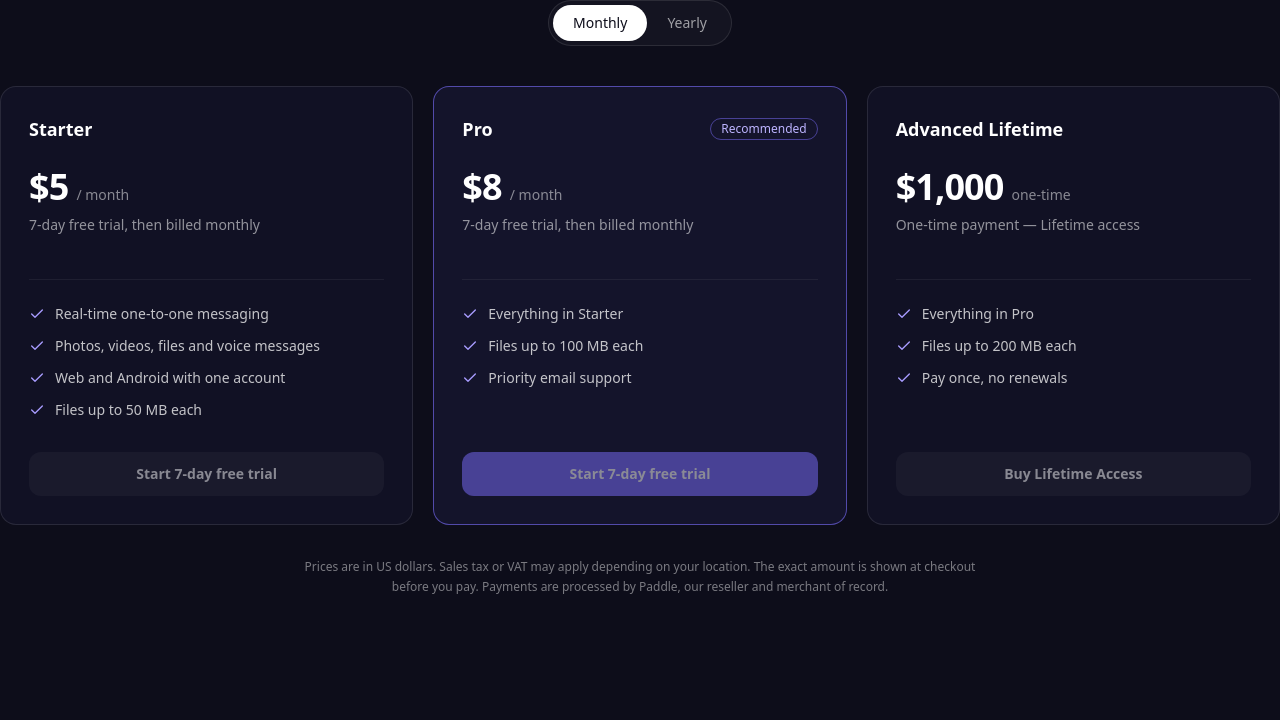
Scenario: pricing table › Starter (Monthly) opens the overlay checkout for its own price ID
The width and height of the screenshot is (1280, 720).
Later steps or results of the test are not shown.
Click the radio button labelled "Monthly" at (600, 23), box [553,5,647,41]
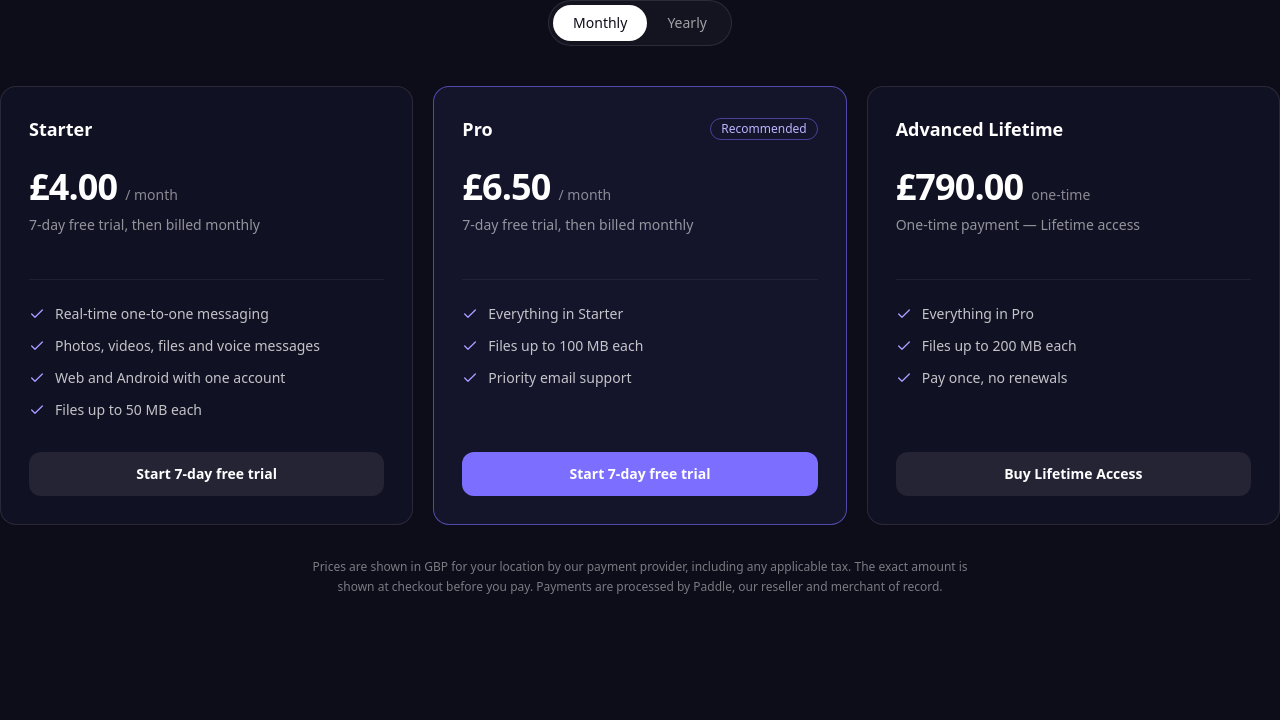
Expected: the button "Start 7-day free trial" below "Files up to 50 MB each" is enabled, [29,452,384,496]
